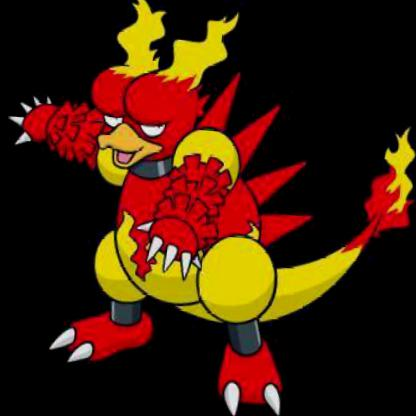Magmar: (0, 55, 410, 415)
